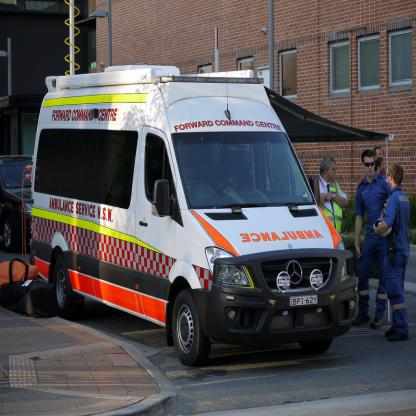bus: (30, 63, 364, 367)
